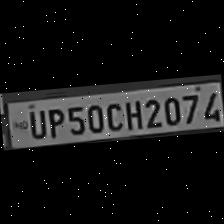0: (159, 92, 181, 126), (83, 100, 104, 133)
2: (140, 94, 162, 128)
4: (196, 86, 222, 121)
5: (62, 101, 85, 135)
7: (179, 90, 199, 124)
C: (102, 98, 123, 132)
H: (122, 96, 142, 130)
P: (43, 103, 64, 137)
U: (24, 106, 46, 140)
